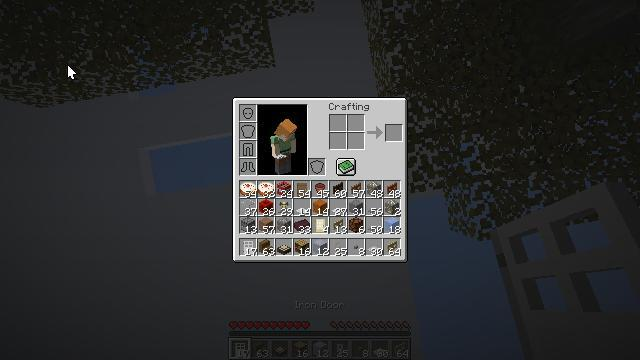cursor: (67, 64, 77, 80)
